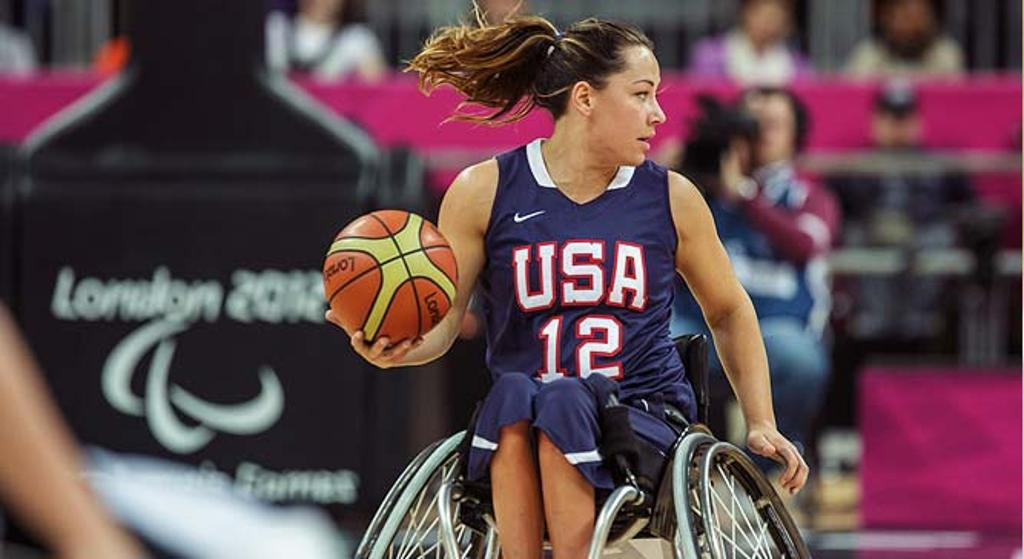face: (593, 51, 671, 161)
